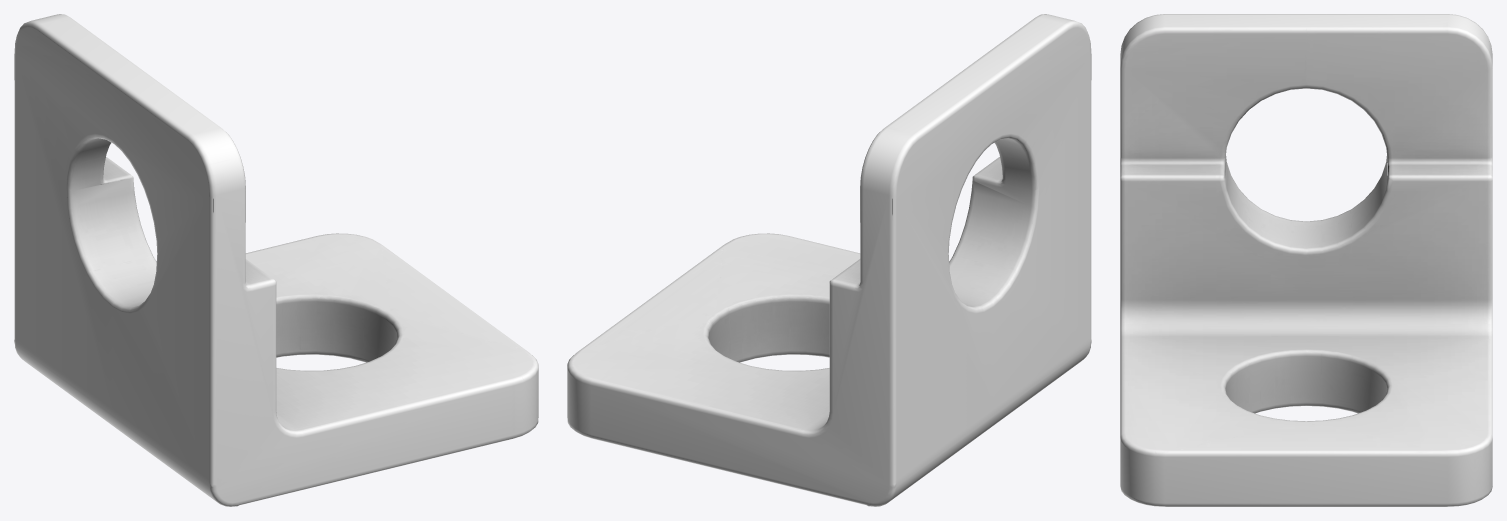
Rendered from bracket-transformed.glb.
The picture shows the model from 3 angles, left to right: view 1: azimuth 30°, elevation 25°; view 2: azimuth 150°, elevation 25°; view 3: azimuth 270°, elevation 25°; orthographic projection. The views are drawn at different scales.
Parts seen in each view (by area): view 1: Cube; view 2: Cube; view 3: Cube.
Part boxes in pixels (box(x1,y1,x2,y2)): Cube: box(14, 14, 538, 506); Cube: box(567, 14, 1091, 506); Cube: box(1120, 14, 1492, 506).
Bounding box in the file's own units: 2 × 2 × 2.
Materials: 1 (1 with a texture image).
